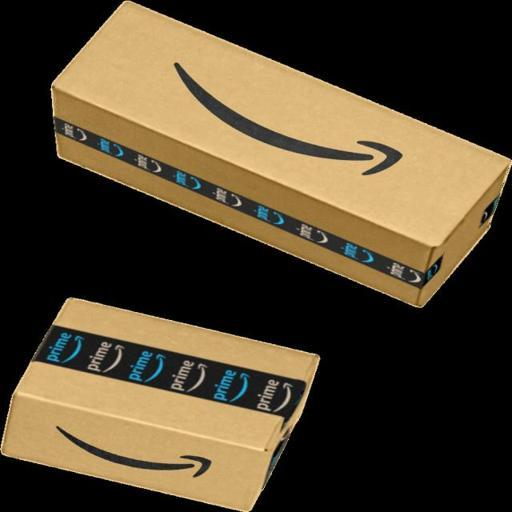Amazon: (47, 0, 512, 313), (4, 292, 323, 512)
